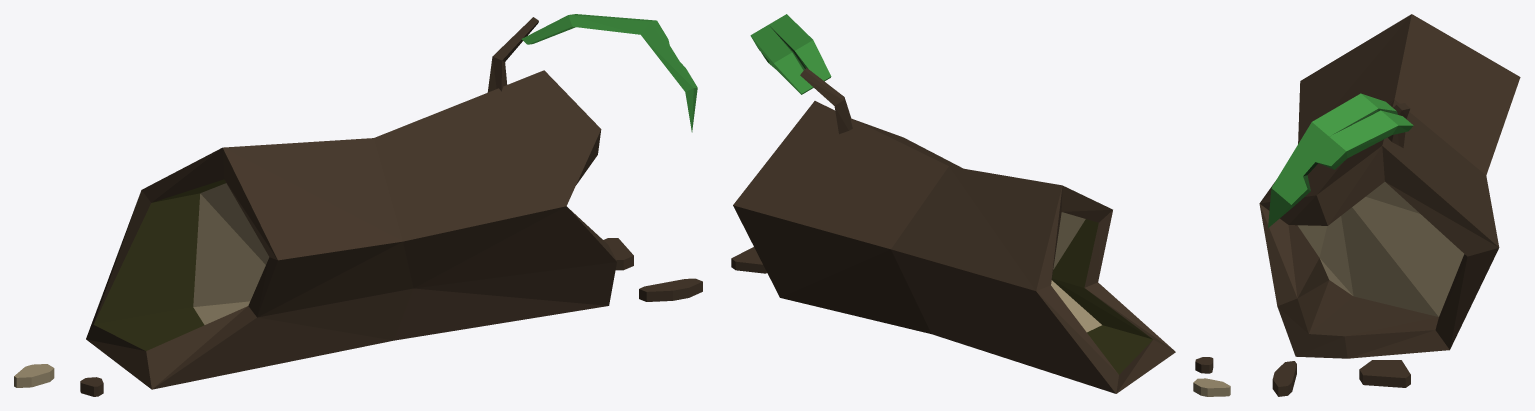
File: Tree_F_03.FBX
3 renders of one model, left to right at view 1: azimuth 30°, elevation 25°; view 2: azimuth 150°, elevation 25°; view 3: azimuth 270°, elevation 25°, orthographic. The views are drawn at different scales.
Visible parts, largest first — view 1: Tree_F_03; view 2: Tree_F_03; view 3: Tree_F_03.
Part boxes in pixels (x1,y1,x2,y2): Tree_F_03: [14, 14, 702, 396]; Tree_F_03: [731, 14, 1230, 396]; Tree_F_03: [1259, 14, 1520, 396].
Bounding box in the file's own units: 3.16 × 1.32 × 1.2.
